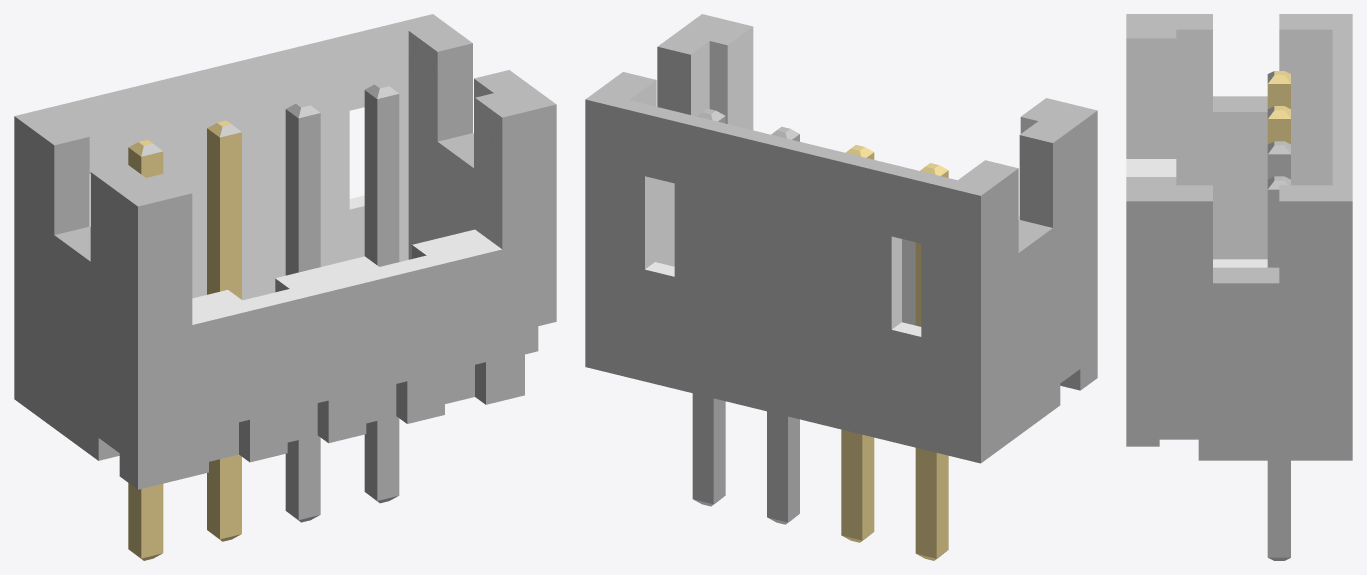
The model's file is DF13-4P-1.25DSA(50).obj.
3 renders of one model, left to right at view 1: azimuth 30°, elevation 25°; view 2: azimuth 150°, elevation 25°; view 3: azimuth 270°, elevation 25°, orthographic. The views are drawn at different scales.
Visible parts, largest first — view 1: DF13-4P-1.25DSA(50); view 2: DF13-4P-1.25DSA(50); view 3: DF13-4P-1.25DSA(50).
Boxes of the visible parts, bbox=[...] form: DF13-4P-1.25DSA(50): bbox=[14, 14, 556, 560]; DF13-4P-1.25DSA(50): bbox=[585, 14, 1097, 560]; DF13-4P-1.25DSA(50): bbox=[1126, 14, 1352, 560].
Size of the model in its own units: 0.0106 by 0.0106 by 0.00544.
